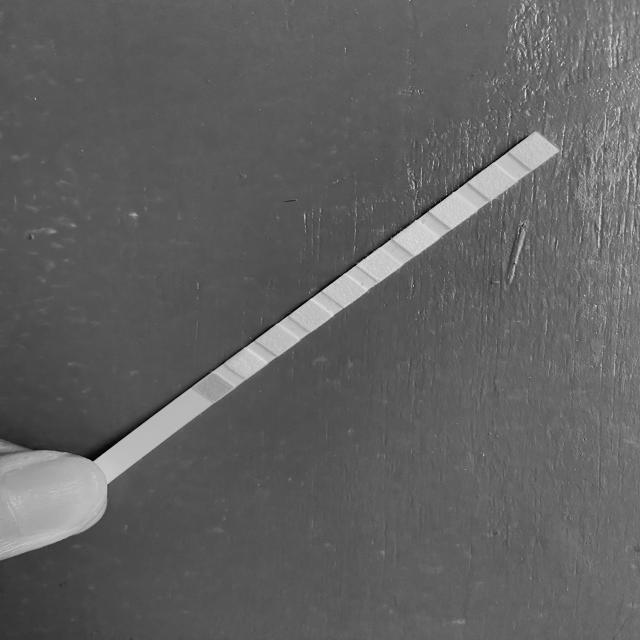Bilirubin: (234, 356, 258, 372)
Blood: (330, 284, 358, 298)
Glucose: (201, 380, 227, 394)
Ketone: (265, 332, 290, 348)
Leukocytes: (520, 142, 548, 159)
Nitrite: (479, 173, 506, 190)
Protein: (402, 230, 428, 247)
SpGravity: (298, 308, 323, 324)
Urobilinogen: (442, 202, 465, 220)
background: (0, 0, 640, 640)
pH: (367, 257, 392, 274)
strip: (100, 131, 560, 473)
